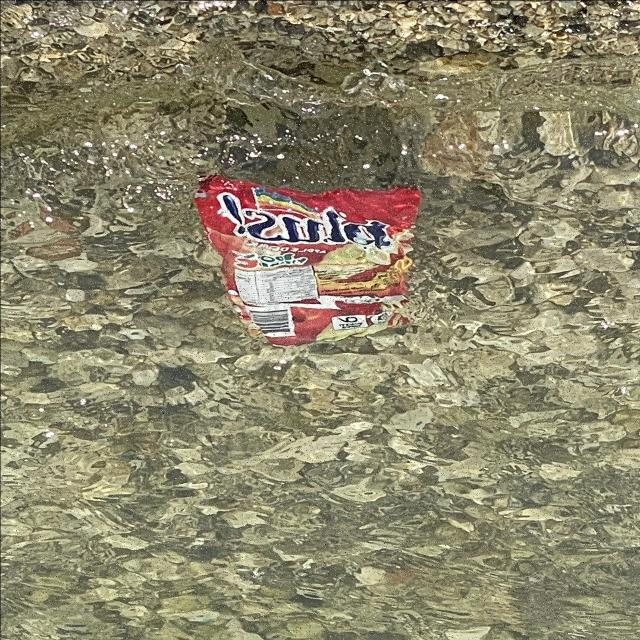plastic_waste: (192, 175, 420, 344)
